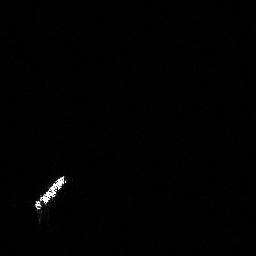ship: (33, 173, 76, 226)
